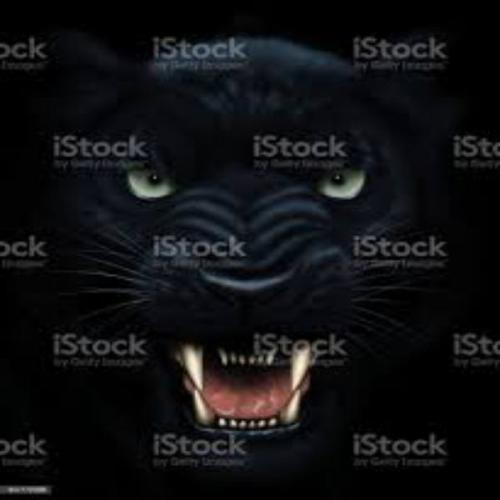panther-endangered: (49, 30, 458, 458)
